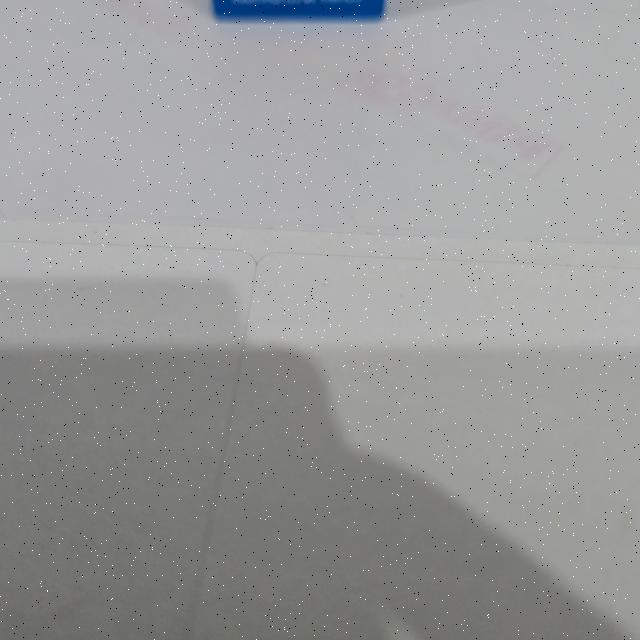prednisona: (209, 0, 387, 28)
